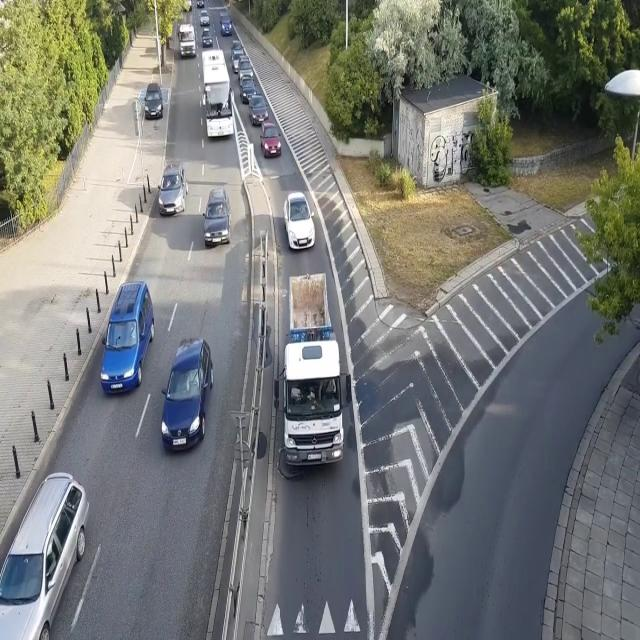bus: (200, 49, 236, 142)
car: (0, 470, 90, 640), (155, 336, 217, 452), (282, 192, 316, 250), (202, 185, 231, 248), (158, 162, 187, 218), (260, 118, 281, 158), (142, 82, 164, 120), (238, 73, 256, 102), (250, 97, 268, 125), (238, 57, 253, 77), (201, 28, 213, 48), (200, 10, 210, 26), (197, 0, 206, 8)
truck: (271, 272, 352, 472), (178, 23, 197, 58)
van: (97, 280, 154, 394), (229, 43, 247, 72), (218, 10, 234, 36)
